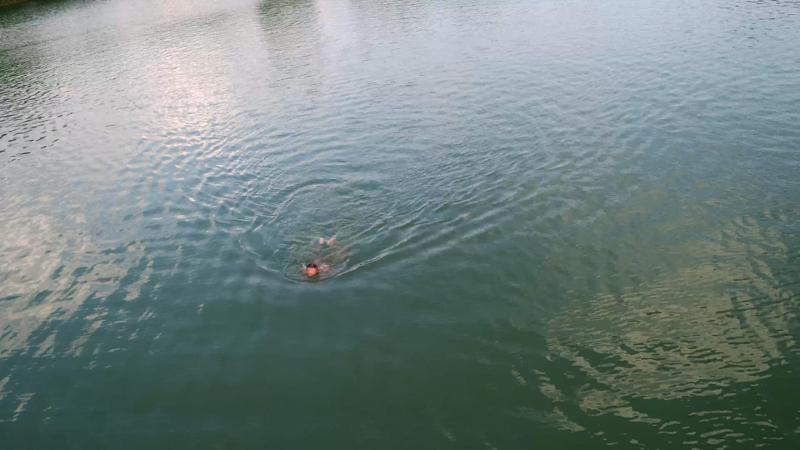passerby: (300, 236, 340, 278)
